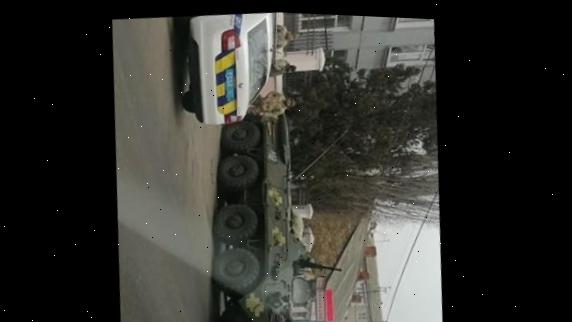car: (171, 8, 277, 128)
person: (246, 88, 296, 119), (266, 21, 298, 49), (264, 56, 297, 81)
tank: (196, 114, 330, 322)
